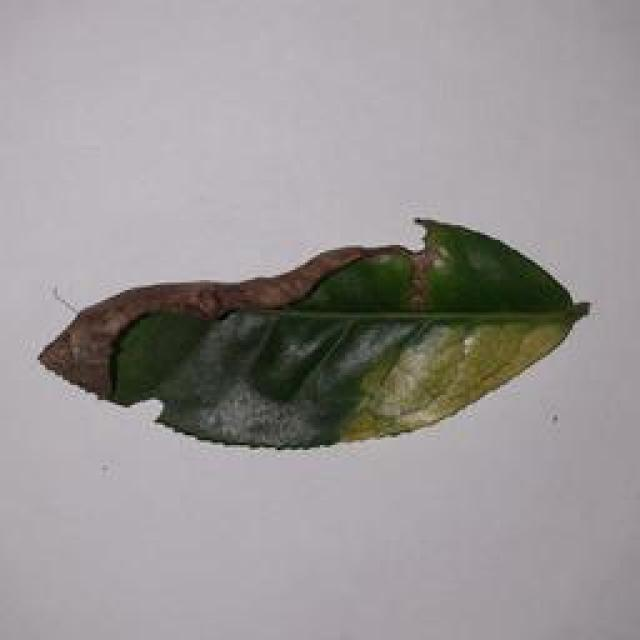Brown Blight: (11, 216, 601, 454)
